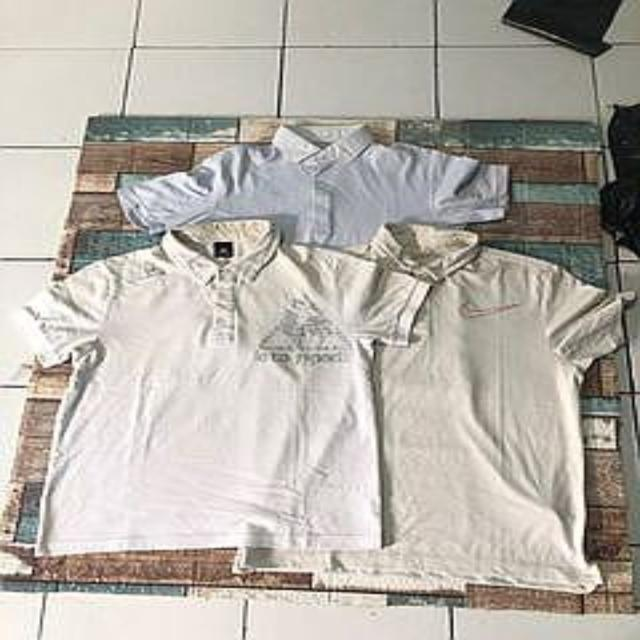T_SHIRT: (19, 215, 430, 568)
